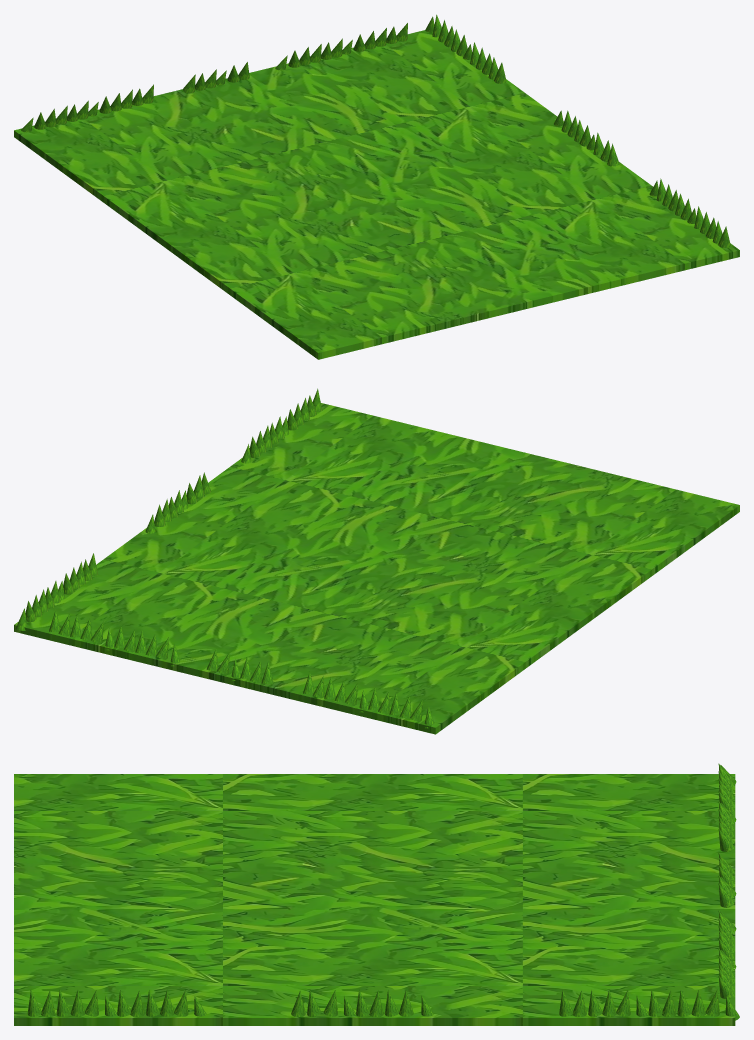
The model's file is PISO PARQUE.fbx.
3 renders of one model, top to bottom at view 1: azimuth 30°, elevation 25°; view 2: azimuth 150°, elevation 25°; view 3: azimuth 270°, elevation 25°, orthographic. The views are drawn at different scales.
Visible parts, largest first — view 1: PISO; view 2: PISO; view 3: PISO.
Part boxes in pixels (bbox=[...]): PISO: bbox=[14, 14, 739, 359]; PISO: bbox=[14, 388, 739, 734]; PISO: bbox=[14, 763, 739, 1025].
Size of the model in its own units: 4122 by 257 by 5184.
